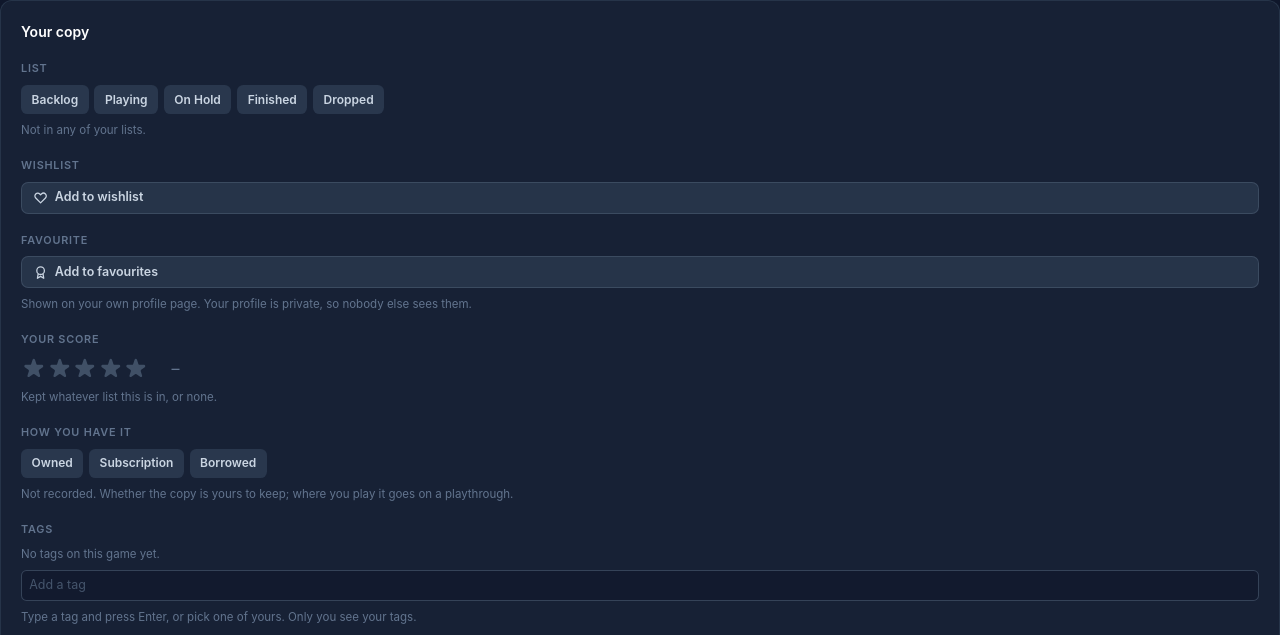
Test: GameUserPanel list placement › takes the refusal down as the move is tried again, and keeps it down once it is kept
expect the element named "Your score for Celeste" is enabled: met, box [21,356,179,381]
Step 1. Click the button "Backlog" → (55, 100), box [21,85,89,114]
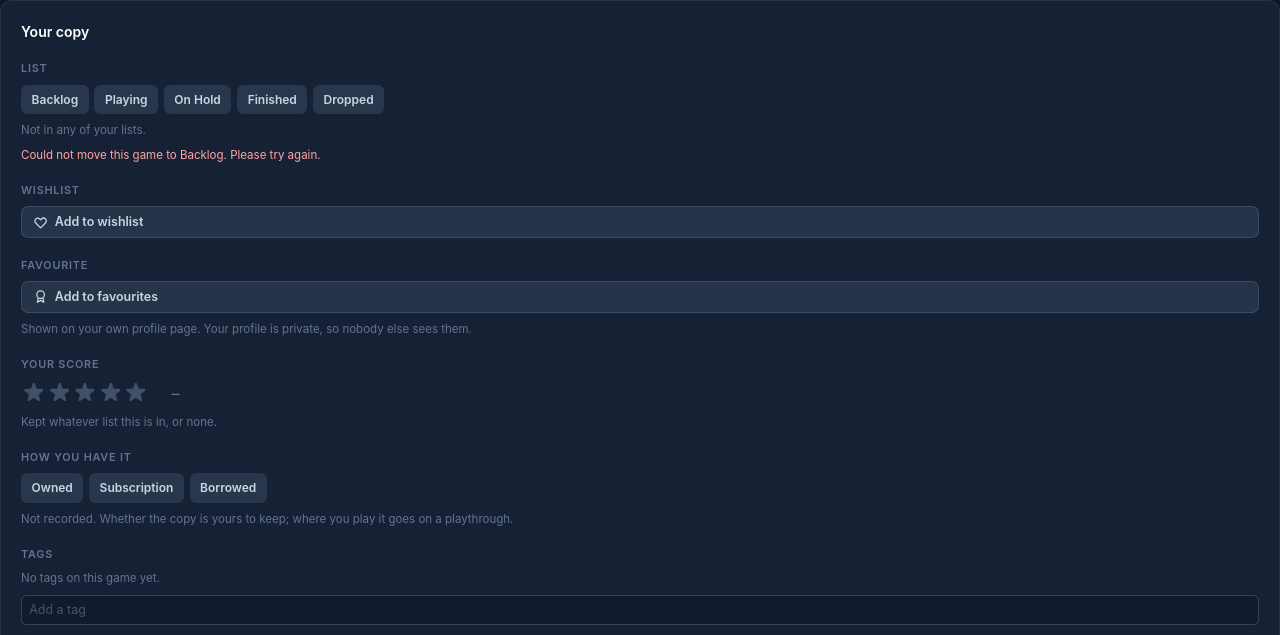
expect the message reads "Could not move this game to Backlog. Please try again.": met, box [21,148,320,162]
Step 2. Click the button "Backlog" → (55, 100), box [21,85,89,114]
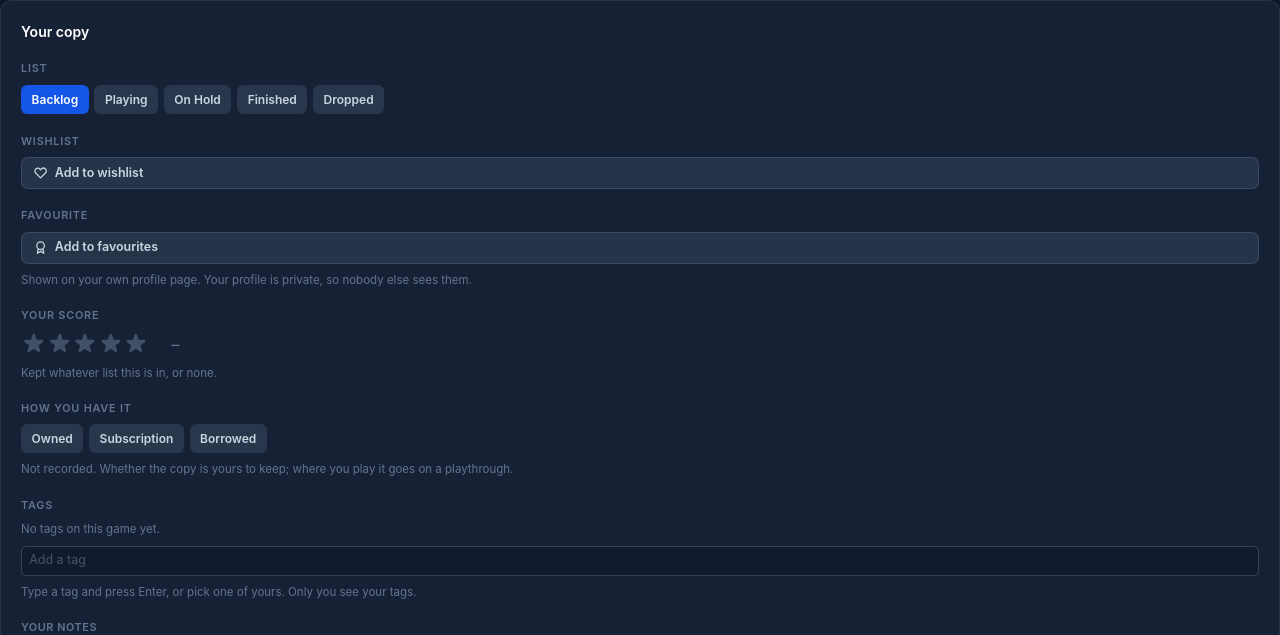
expect the message "Could not move this game to Backlog. Please try again." is gone: met
